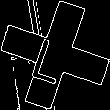L_N: (32, 26, 78, 84)
